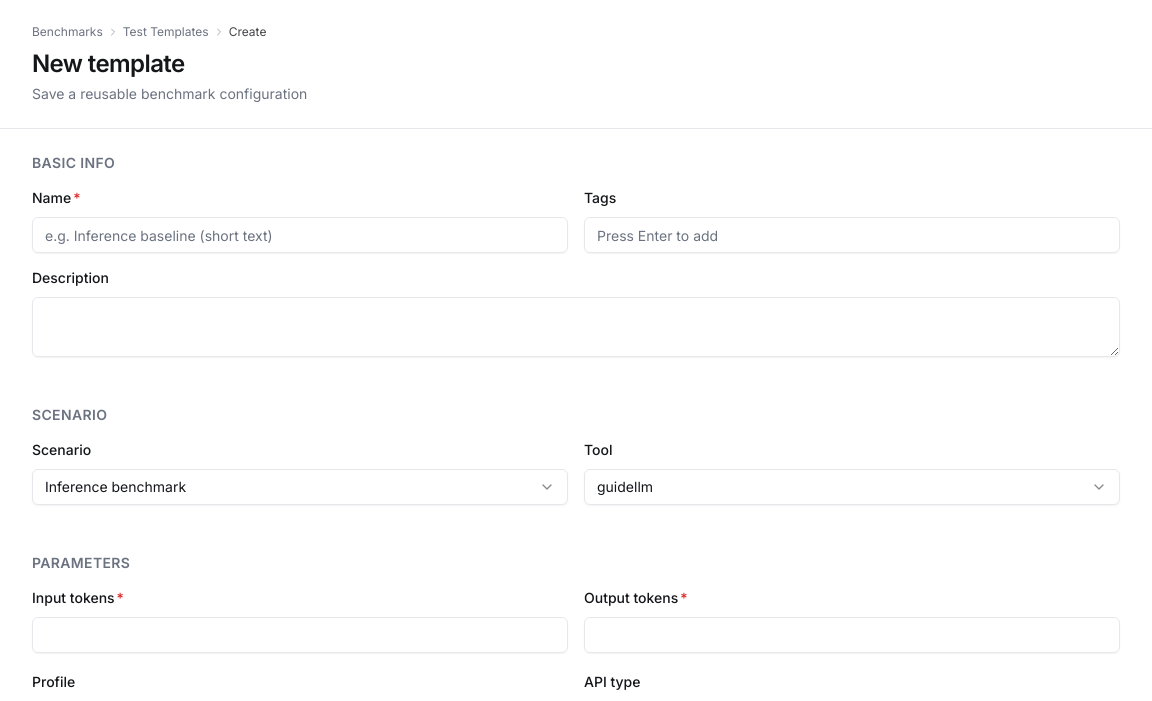
Test: TemplateCreatePage › shows required error under Name when blurred while empty
Click the field labelled "Name*" at (300, 235), box [32,217,568,253]
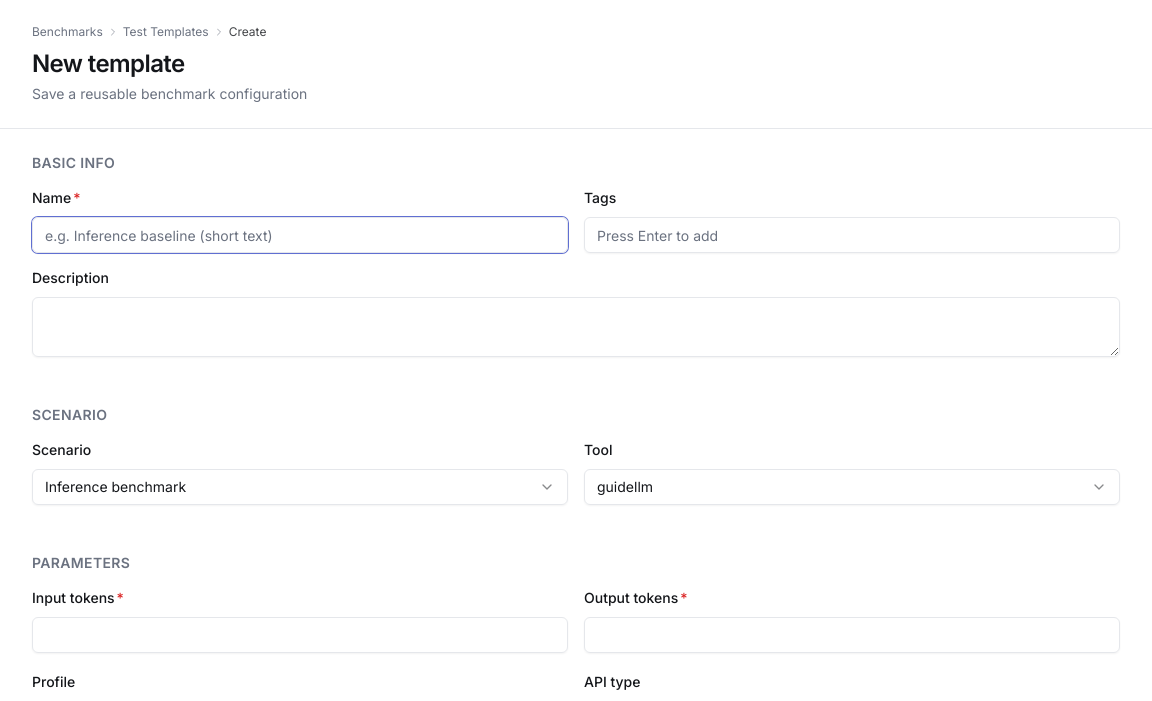
Press Tab
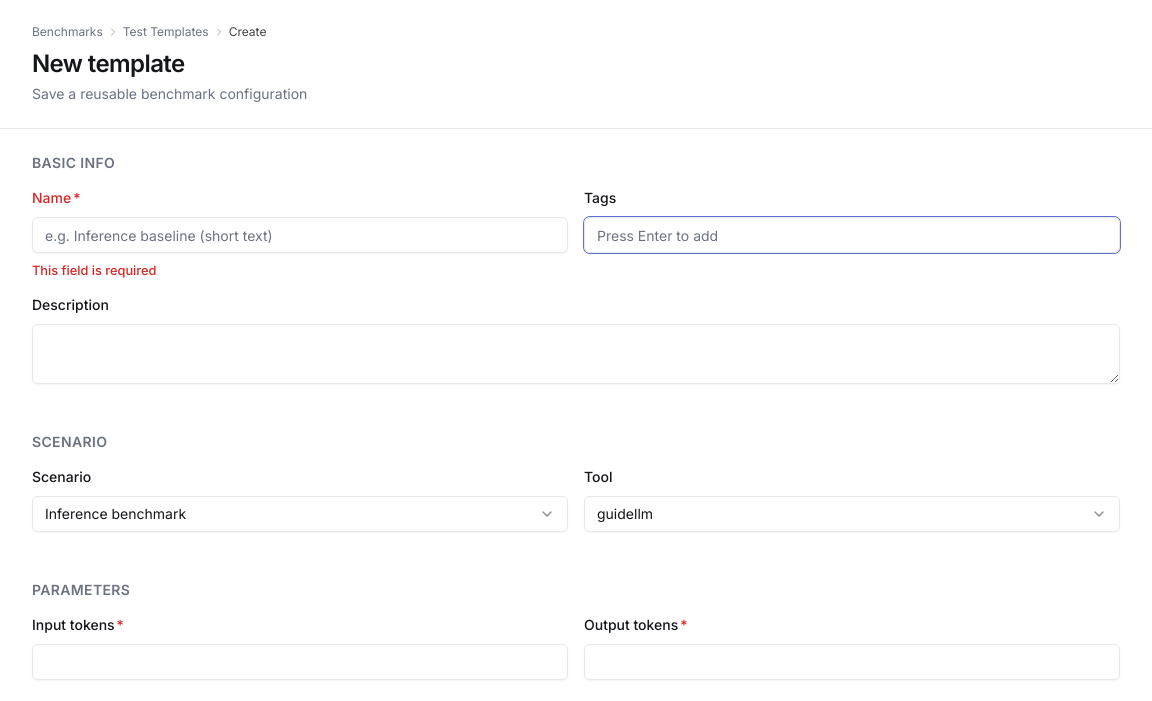
Now the text "This field is required" is shown, box [32,263,156,278]
